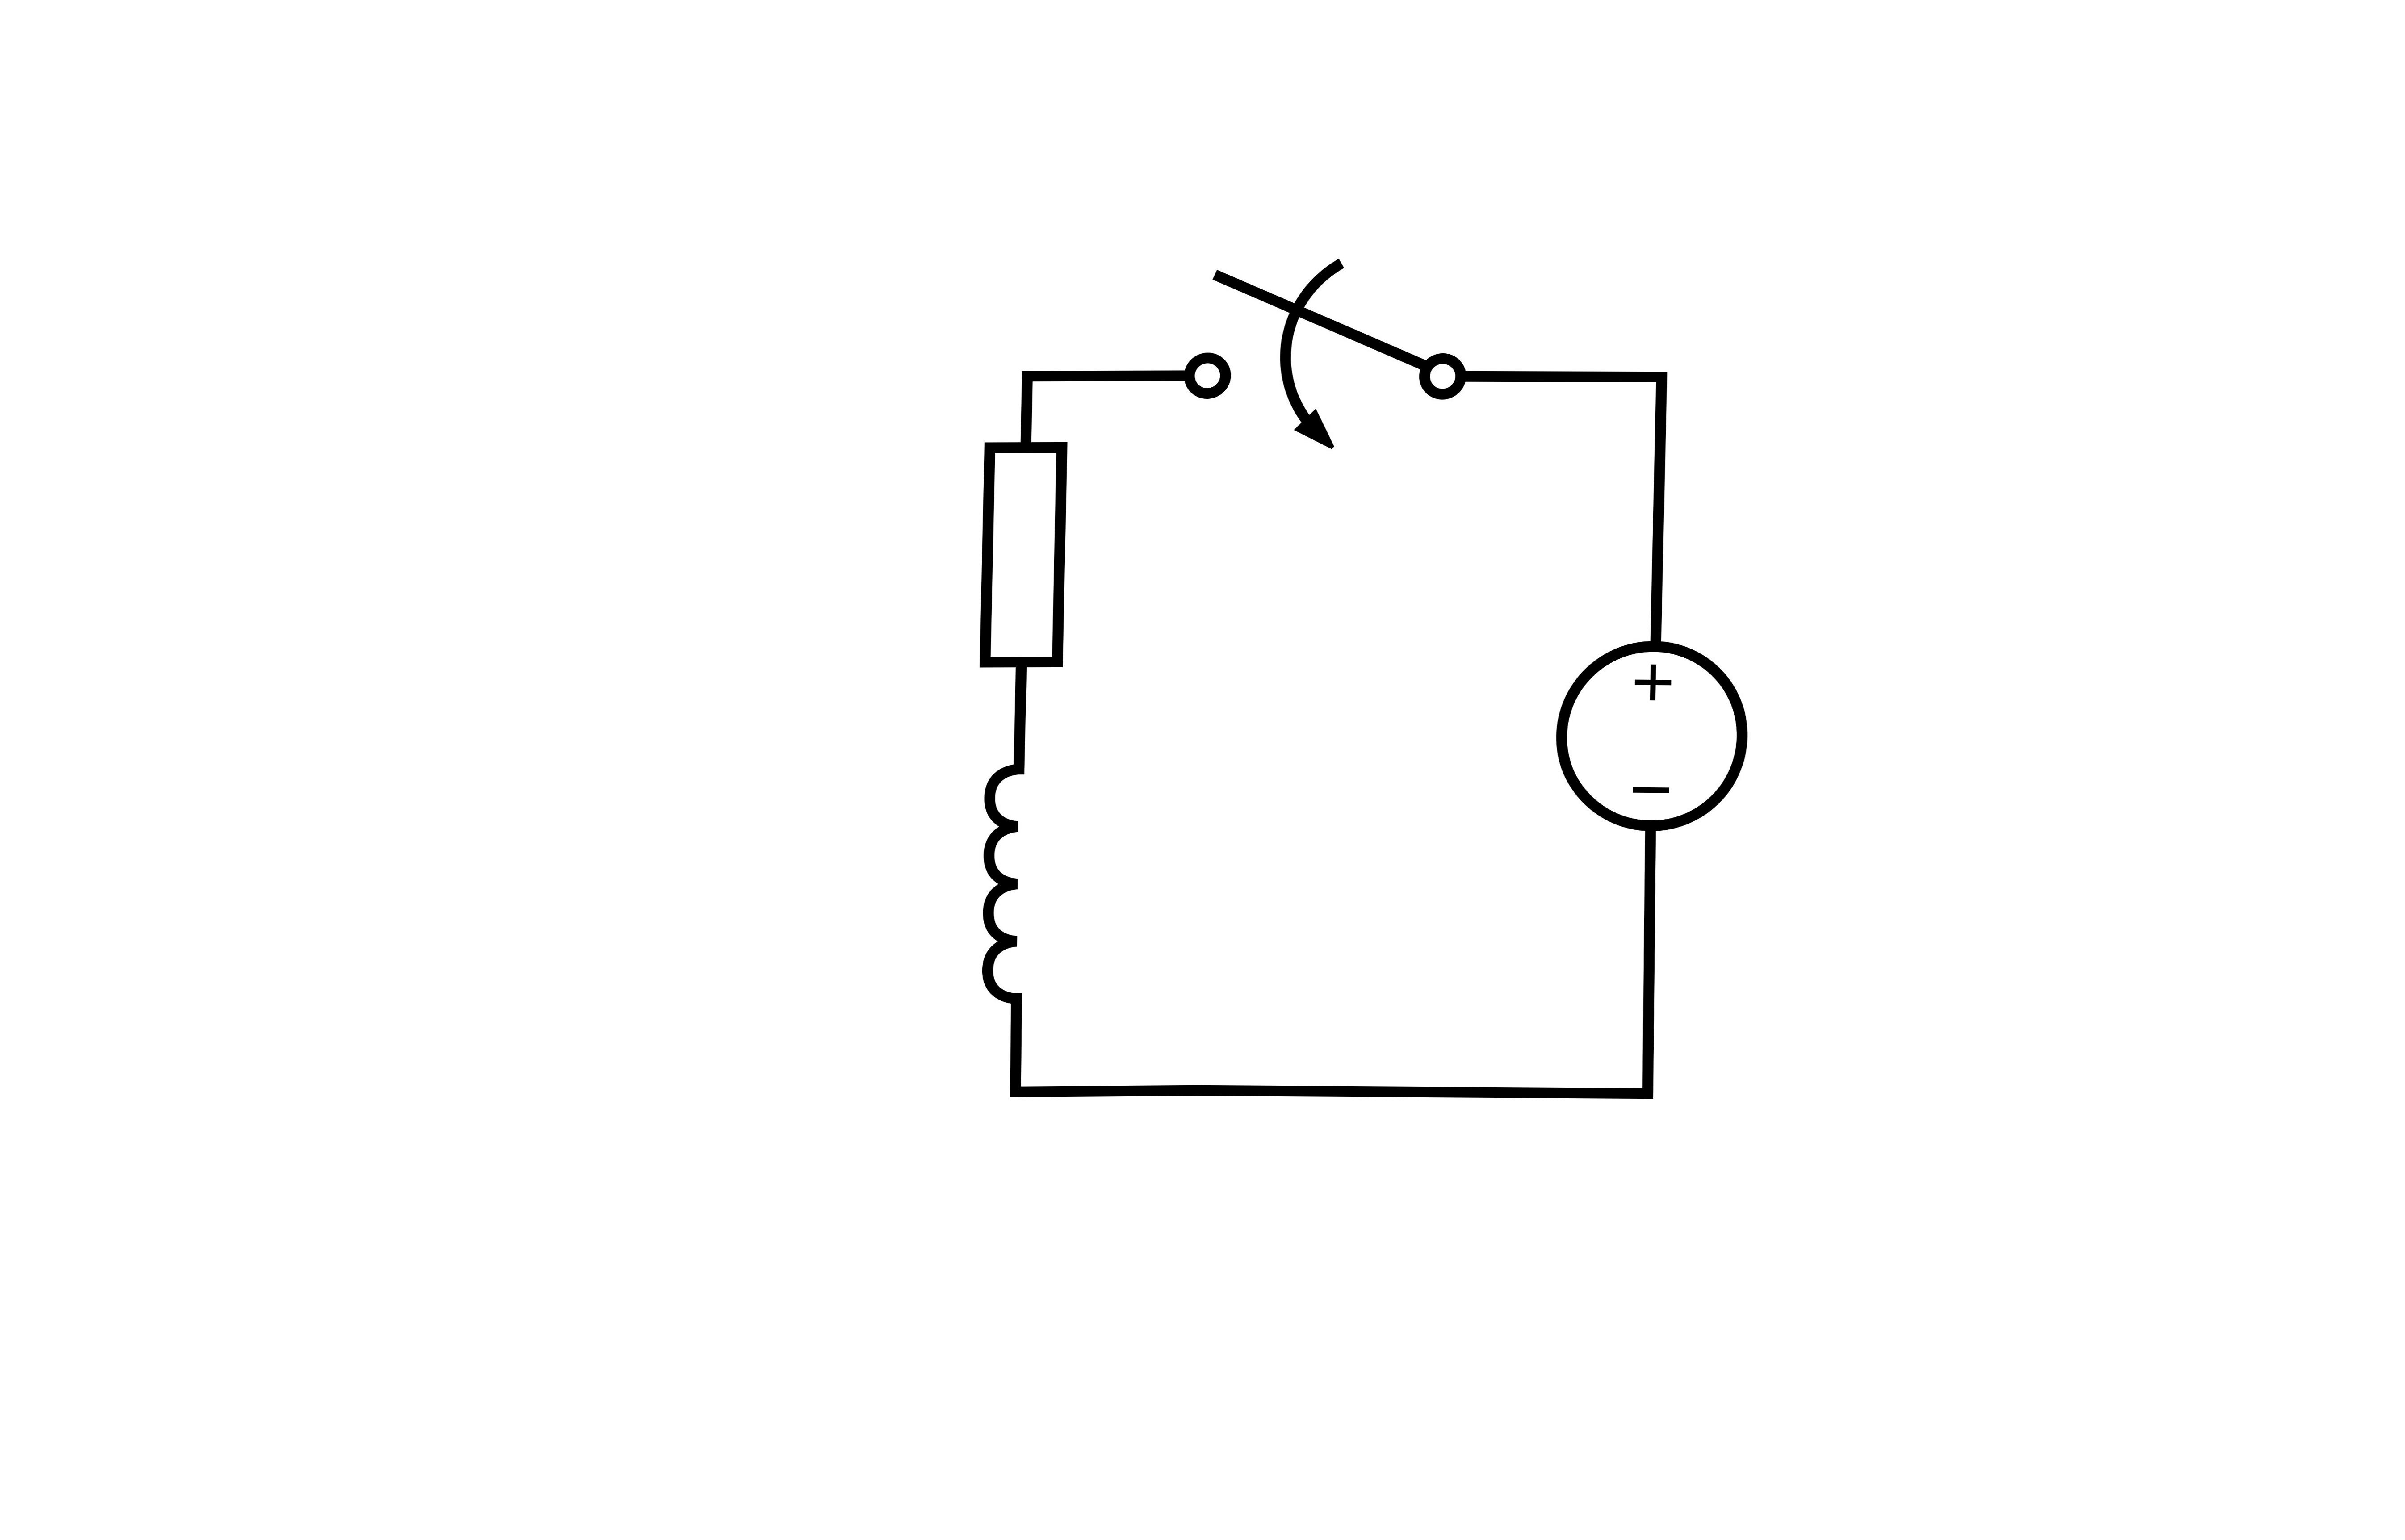Battery: (1497, 594, 1828, 899)
